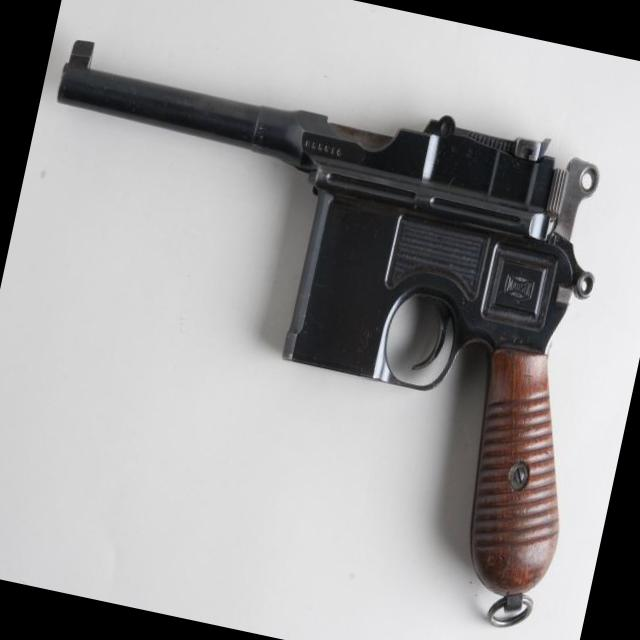Gun: (57, 42, 599, 624)
